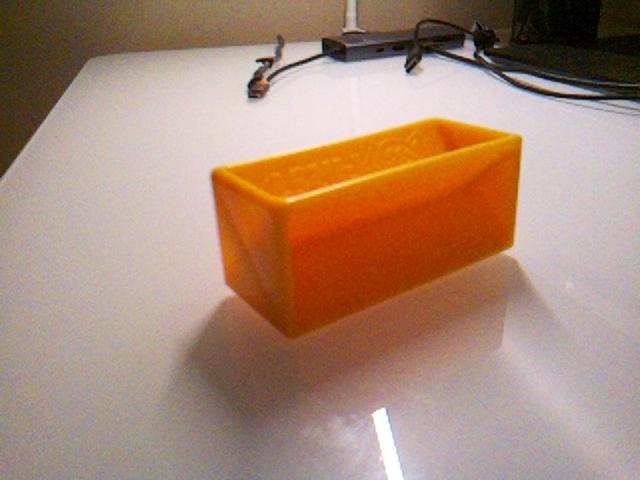yellow: (210, 115, 524, 339)
